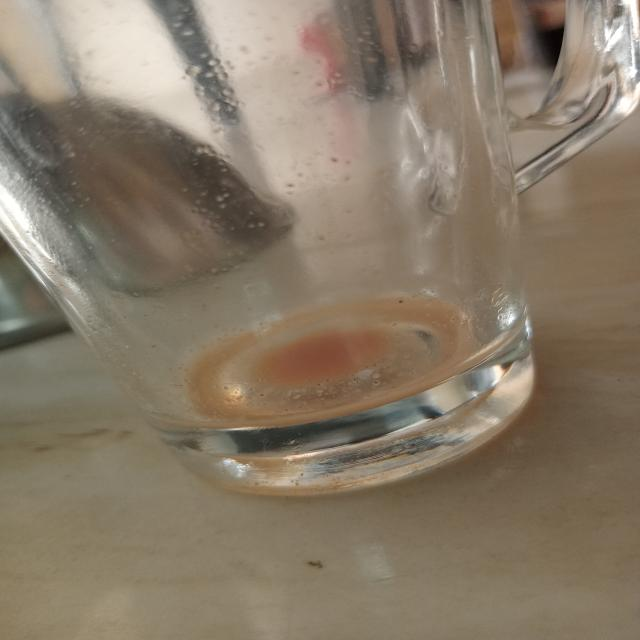glass-VX4N: (0, 3, 634, 494)
